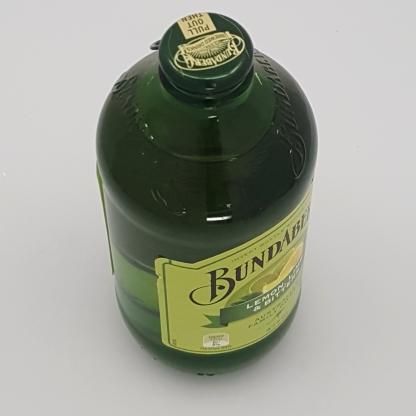------------375ML: (96, 12, 318, 376)
